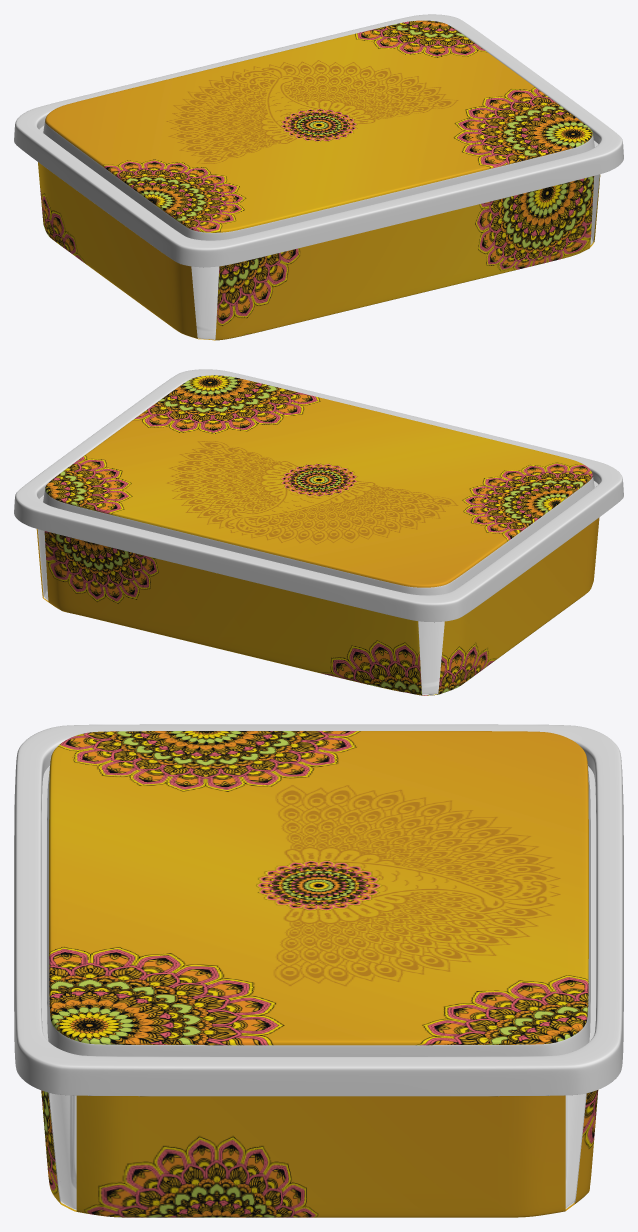
3 renders of one model, top to bottom at view 1: azimuth 30°, elevation 25°; view 2: azimuth 150°, elevation 25°; view 3: azimuth 270°, elevation 25°, orthographic. The views are drawn at different scales.
Visible parts, largest first — view 1: lid.003, label, lid.002, tub, white label; view 2: lid.003, label, lid.002, tub, white label; view 3: lid.003, label, lid.002, tub, white label.
Part boxes in pixels (x1,y1,x2,y2): lid.003: (45, 20, 592, 232); label: (38, 162, 600, 340); lid.002: (14, 14, 623, 267); tub: (191, 174, 599, 339); white label: (191, 175, 598, 339); lid.003: (45, 375, 592, 587); label: (36, 518, 599, 695); lid.002: (14, 369, 623, 621); tub: (38, 517, 599, 694); white label: (37, 529, 444, 694); lid.003: (49, 731, 588, 1045); label: (41, 1090, 598, 1217); lid.002: (14, 724, 623, 1096); tub: (48, 1093, 585, 1209); white label: (48, 1093, 586, 1210).
Bounding box in the file's own units: 0.198 × 0.0465 × 0.1477.
Materials: 7 (3 with a texture image).
